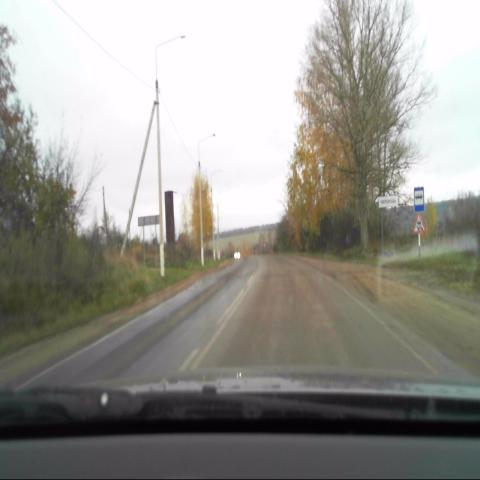1_15: (413, 212, 426, 233)
